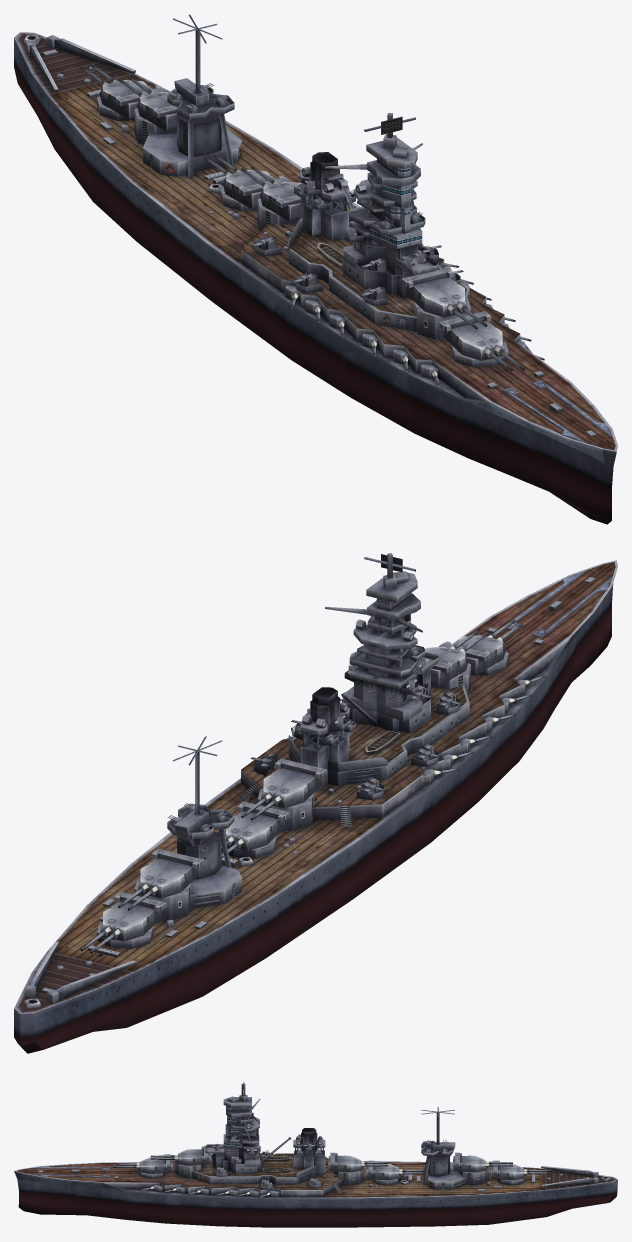
Rendered from Ise.fbx.
3 renders of one model, top to bottom at view 1: azimuth 30°, elevation 25°; view 2: azimuth 150°, elevation 25°; view 3: azimuth 270°, elevation 25°, orthographic. The views are drawn at different scales.
Parts seen in each view (by area): view 1: Body, M_Cannon02, M_Cannon01, M_Cannon06, M_Cannon04, M_Cannon03, M_Cannon05; view 2: Body, M_Cannon03, M_Cannon05, M_Cannon06, M_Cannon04, M_Cannon01, M_Cannon02; view 3: Body, M_Cannon03, M_Cannon05, M_Cannon02, M_Cannon04, M_Cannon06, M_Cannon01.
Part boxes in pixels (x1=…): Body: x1=14, y1=14, x2=617, y2=524; M_Cannon02: x1=401, y1=267, x2=467, y2=317; M_Cannon01: x1=439, y1=311, x2=505, y2=360; M_Cannon06: x1=99, y1=80, x2=166, y2=119; M_Cannon04: x1=223, y1=170, x2=289, y2=209; M_Cannon03: x1=260, y1=181, x2=301, y2=221; M_Cannon05: x1=137, y1=91, x2=177, y2=131; Body: x1=14, y1=553, x2=617, y2=1053; M_Cannon03: x1=261, y1=758, x2=326, y2=808; M_Cannon05: x1=137, y1=848, x2=203, y2=898; M_Cannon06: x1=100, y1=892, x2=166, y2=941; M_Cannon04: x1=225, y1=801, x2=289, y2=850; M_Cannon01: x1=439, y1=635, x2=505, y2=674; M_Cannon02: x1=424, y1=646, x2=468, y2=686; Body: x1=14, y1=1082, x2=617, y2=1227; M_Cannon03: x1=328, y1=1152, x2=362, y2=1172; M_Cannon05: x1=453, y1=1152, x2=486, y2=1172; M_Cannon02: x1=176, y1=1146, x2=210, y2=1165; M_Cannon04: x1=366, y1=1160, x2=400, y2=1180; M_Cannon06: x1=491, y1=1160, x2=524, y2=1180; M_Cannon01: x1=138, y1=1154, x2=172, y2=1173.
Size of the model in its own units: 34.71 by 51.1 by 213.
1 material, 1 textured.
